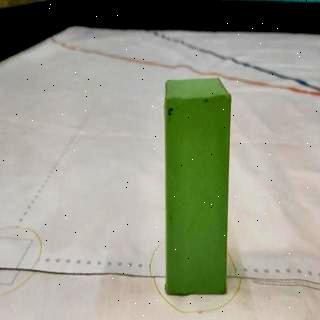greenbox: (162, 76, 234, 297)
